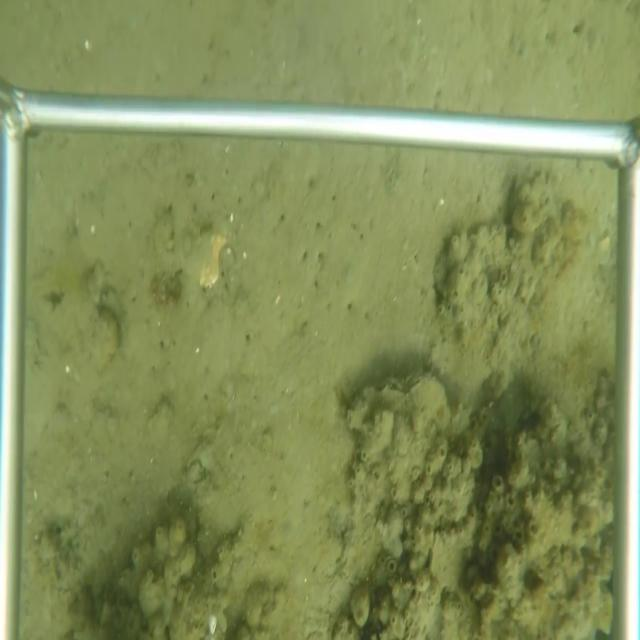Oyster-Closed: (341, 368, 451, 449), (426, 507, 477, 596)
